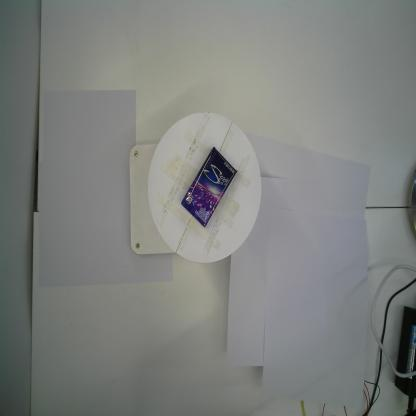Gum: (180, 147, 238, 229)
